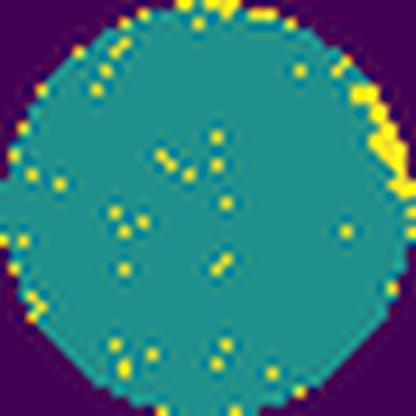Edge-Loc: (350, 84, 416, 204)
